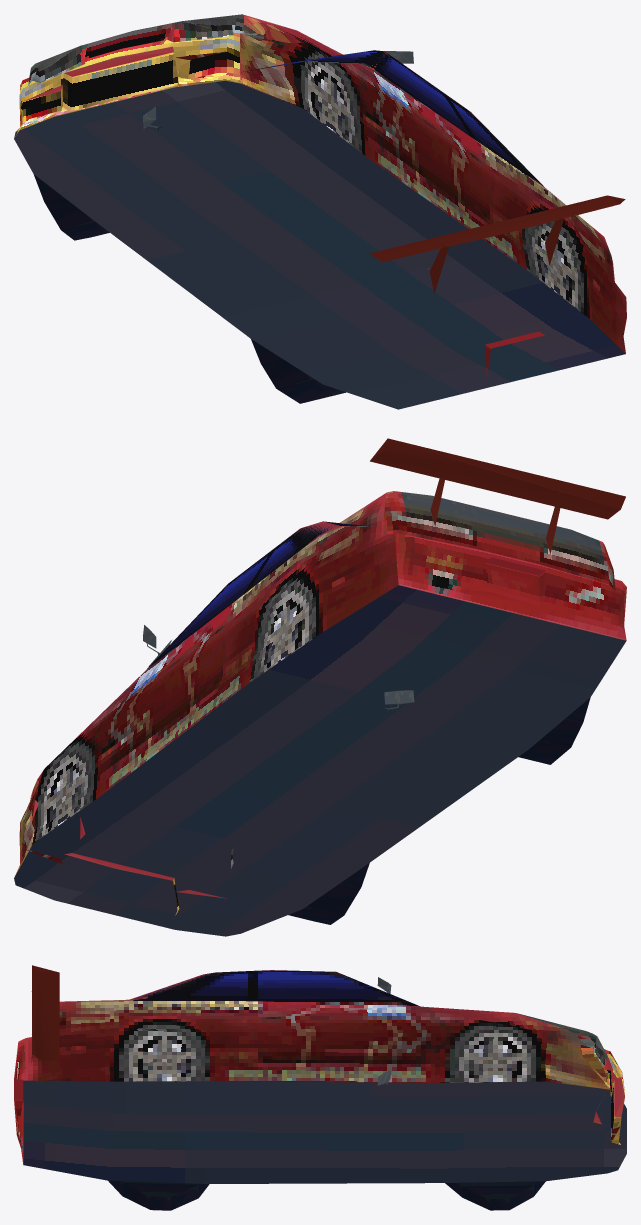
The model's file is ps2_save-icons_thefastandthefurious.glb.
3 renders of one model, top to bottom at view 1: azimuth 30°, elevation 25°; view 2: azimuth 150°, elevation 25°; view 3: azimuth 270°, elevation 25°, orthographic. The views are drawn at different scales.
Parts seen in each view (by area): view 1: iconlst.icn; view 2: iconlst.icn; view 3: iconlst.icn.
Part boxes in pixels (left/top/right/bottom): iconlst.icn: left=14, top=14, right=626, bottom=409; iconlst.icn: left=14, top=438, right=626, bottom=936; iconlst.icn: left=14, top=965, right=626, bottom=1210.
Size of the model in its own units: 1.43 by 1.07 by 3.61.
Materials: 1 (1 with a texture image).
